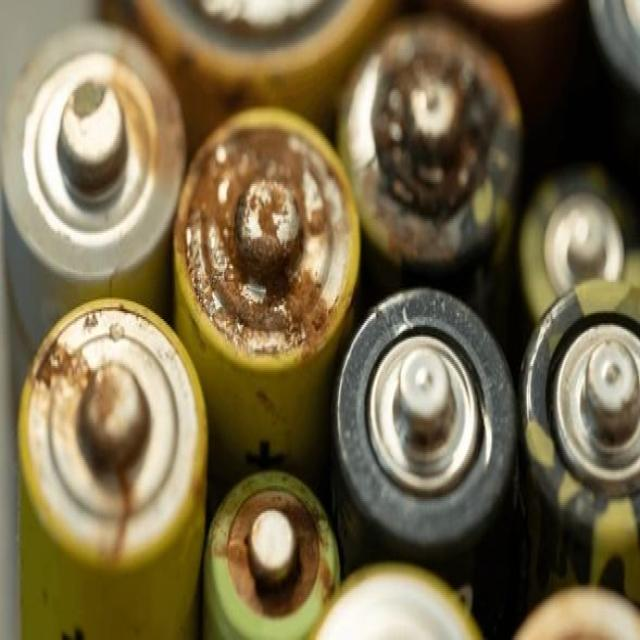electronic: (1, 4, 196, 322)
